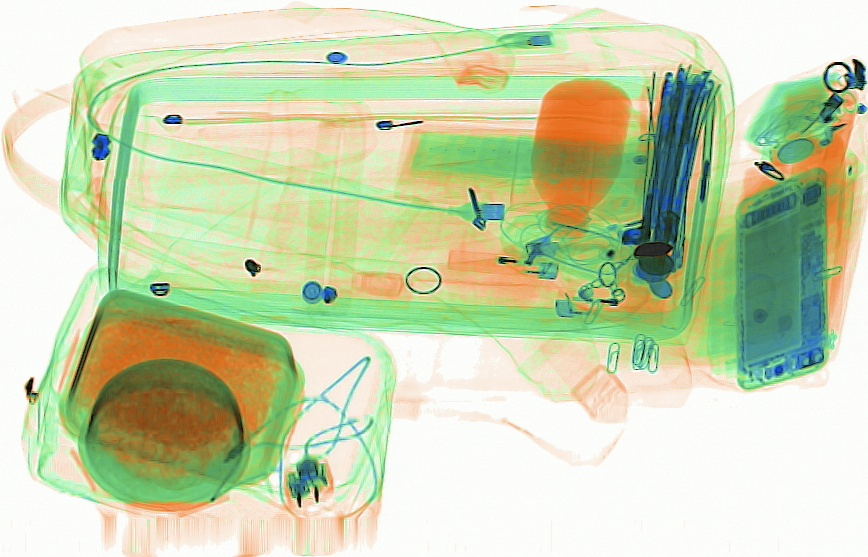lighter: (552, 284, 679, 321), (444, 243, 559, 283)
